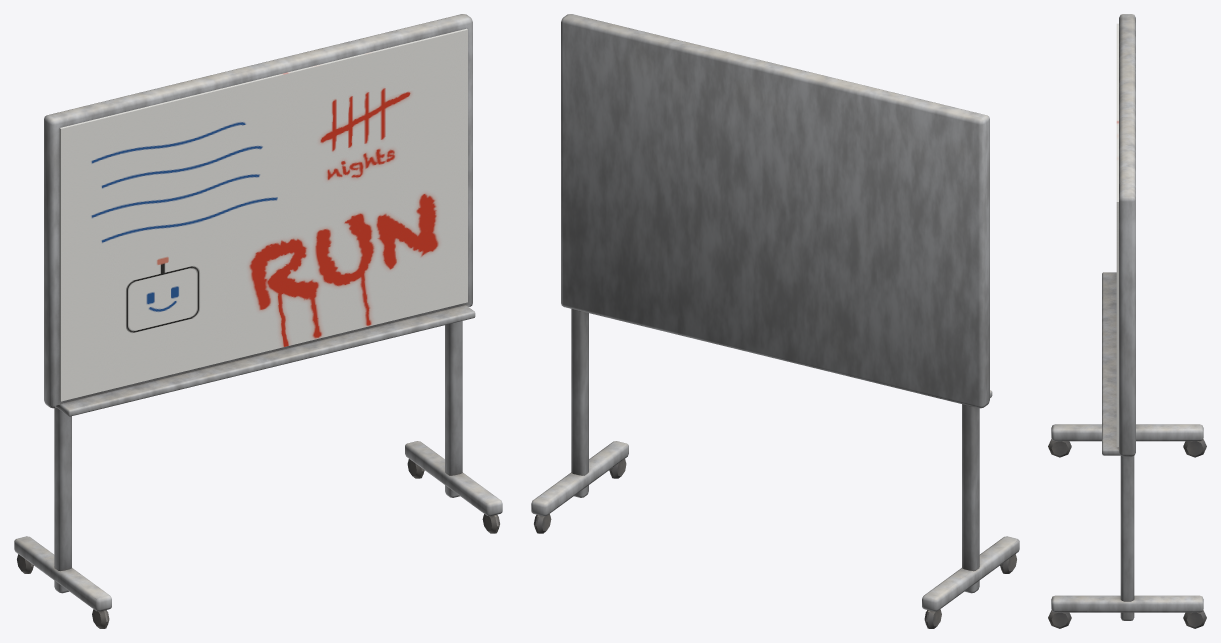
Rendered from whiteboard.fbx.
The picture shows the model from 3 angles, left to right: view 1: azimuth 30°, elevation 25°; view 2: azimuth 150°, elevation 25°; view 3: azimuth 270°, elevation 25°; orthographic projection. The views are drawn at different scales.
Visible parts, largest first — view 1: Screen, Body; view 2: Body; view 3: Body, Screen.
Part boxes in pixels (left/top/right/bottom): Screen: left=59, top=28, right=467, bottom=401; Body: left=14, top=14, right=502, bottom=628; Body: left=531, top=14, right=1019, bottom=628; Body: left=1048, top=14, right=1206, bottom=628; Screen: left=1116, top=23, right=1118, bottom=446.
Bounding box in the file's own units: 5.2 × 5.72 × 1.88.
2 materials, 2 textured.
